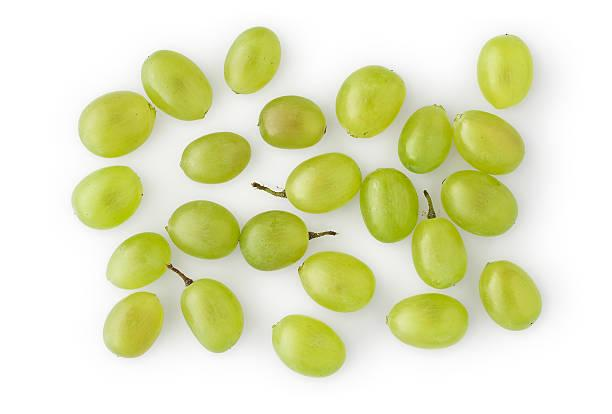grape: (168, 251, 245, 357), (472, 256, 558, 346), (138, 34, 221, 126), (266, 306, 354, 379), (381, 282, 473, 348), (437, 166, 520, 239), (66, 158, 148, 230), (75, 88, 158, 158), (457, 102, 530, 180), (96, 287, 170, 362), (474, 30, 538, 115), (408, 196, 469, 285), (337, 61, 403, 142), (175, 123, 254, 187), (220, 18, 284, 96), (163, 192, 238, 258), (298, 248, 379, 309), (257, 90, 333, 154), (362, 156, 418, 240), (236, 203, 310, 266), (288, 152, 360, 215), (103, 229, 175, 285), (400, 96, 453, 172)
